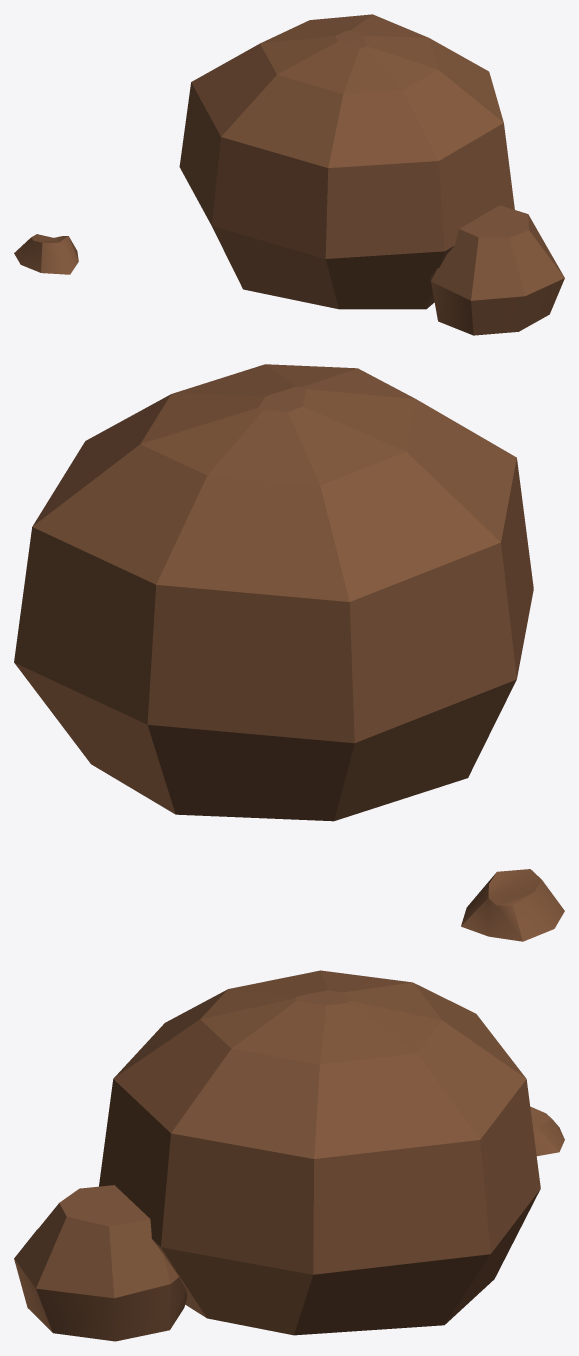
File: Rock #4.FBX
The picture shows the model from 3 angles, top to bottom: view 1: azimuth 30°, elevation 25°; view 2: azimuth 150°, elevation 25°; view 3: azimuth 270°, elevation 25°; orthographic projection. The views are drawn at different scales.
Visible parts, largest first — view 1: Box001, Box002, Box003; view 2: Box001, Box003; view 3: Box001, Box002, Box003.
Part boxes in pixels (<box>): Box001: <box>179,14,514,309</box>; Box002: <box>430,205,564,335</box>; Box003: <box>14,234,78,274</box>; Box001: <box>14,364,533,821</box>; Box003: <box>461,869,564,941</box>; Box001: <box>99,970,540,1335</box>; Box002: <box>14,1185,187,1341</box>; Box003: <box>530,1106,564,1156</box>.
Size of the model in its own units: 34.11 by 18.28 by 32.39.
